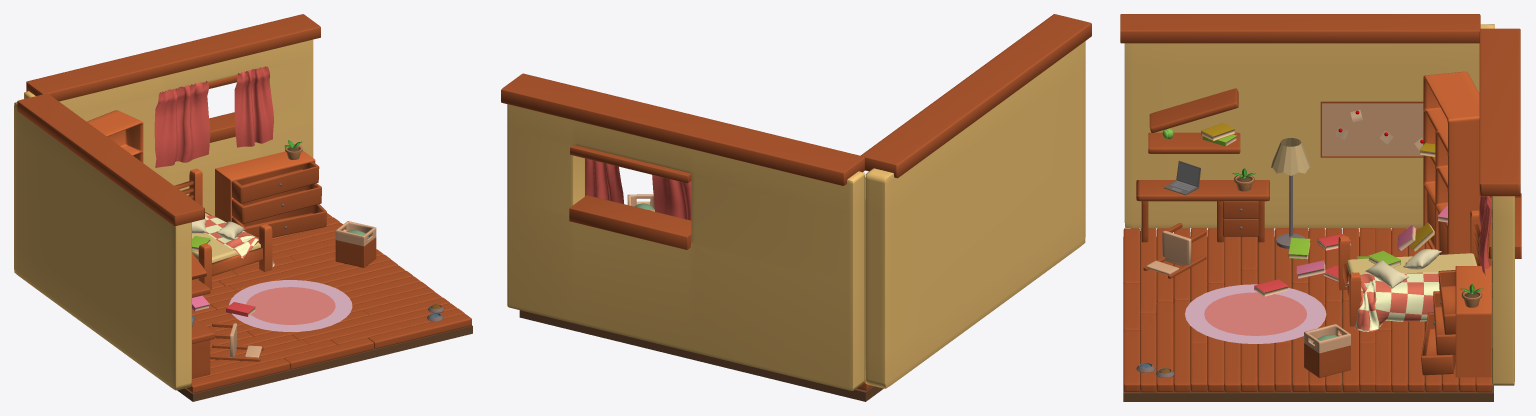
The model's file is Room 3.fbx.
The picture shows the model from 3 angles, left to right: view 1: azimuth 30°, elevation 25°; view 2: azimuth 150°, elevation 25°; view 3: azimuth 270°, elevation 25°; orthographic projection. The views are drawn at different scales.
Visible parts, largest first — view 1: Cube.145, Cube.154, Cube.164, Cube.155, Cube.156, Circle.003, Plane.036, Plane.038, Cube.144, Cube.146, Cube.152, Cube.153 (+9 smaller); view 2: Cube.164, Cube.145, Cube.155, Cube.156, Cube.170, Cube.144, Plane.036, Cube.181, Plane.038; view 3: Cube.145, Cube.154, Cube.156, Cube.157, Cube.155, Circle.003, Cube.166, Cube.144, Cube.164, Cube.152, Plane.039, Cube.148 (+23 smaller).
Part boxes in pixels (x1,y1,x2,y2): Cube.145: [14, 102, 191, 390]; Cube.154: [186, 213, 471, 393]; Cube.164: [24, 39, 313, 216]; Cube.155: [26, 14, 320, 101]; Cube.156: [17, 93, 204, 226]; Circle.003: [229, 280, 352, 331]; Plane.036: [154, 81, 210, 167]; Plane.038: [234, 66, 273, 147]; Cube.144: [177, 325, 472, 401]; Cube.146: [174, 168, 272, 289]; Cube.152: [215, 150, 315, 222]; Cube.153: [232, 162, 319, 203]; Cube.164: [507, 104, 864, 390]; Cube.145: [865, 41, 1085, 388]; Cube.155: [501, 73, 864, 185]; Cube.156: [860, 14, 1091, 178]; Cube.170: [569, 195, 691, 249]; Cube.144: [519, 310, 883, 401]; Plane.036: [652, 175, 691, 220]; Cube.181: [570, 145, 691, 183]; Plane.038: [585, 158, 623, 203]; Cube.145: [1124, 24, 1494, 228]; Cube.154: [1123, 228, 1492, 392]; Cube.156: [1120, 14, 1480, 43]; Cube.157: [1423, 71, 1488, 254]; Cube.155: [1479, 28, 1520, 196]; Circle.003: [1185, 284, 1326, 343]; Cube.166: [1320, 101, 1423, 157]; Cube.144: [1123, 237, 1493, 401]; Cube.164: [1491, 196, 1514, 385]; Cube.152: [1455, 266, 1491, 378]; Plane.039: [1345, 272, 1439, 331]; Cube.148: [1136, 180, 1269, 242].
Bounding box in the file's own units: 2019 × 1220 × 2015.
